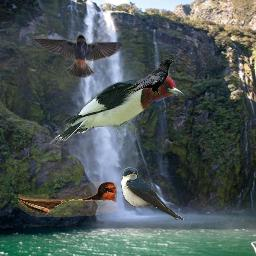Crow: (123, 59, 176, 96)
Swallow: (30, 33, 124, 78), (18, 181, 117, 217), (121, 167, 184, 220)
Woodpecker: (49, 68, 189, 149)
